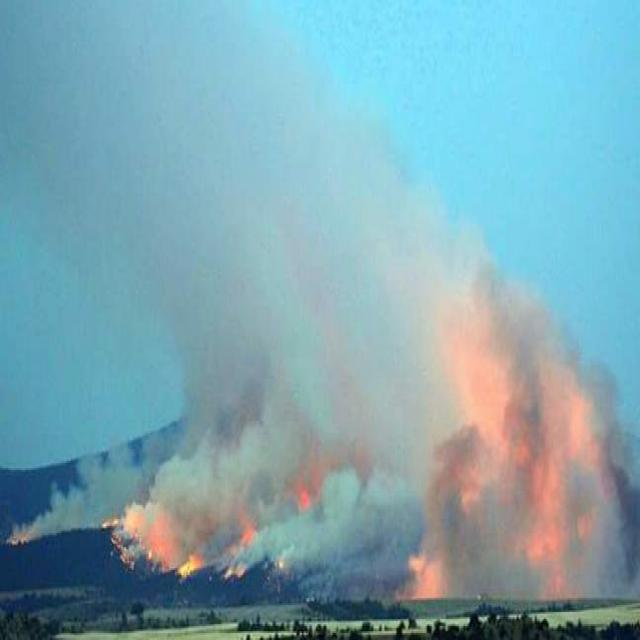Smoke: (0, 231, 636, 603)
